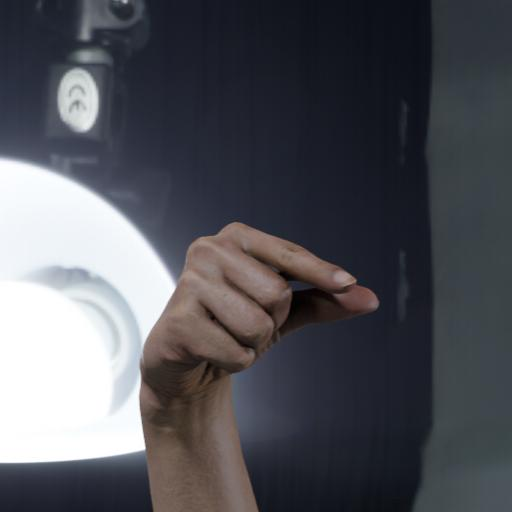G: (130, 204, 389, 428)
